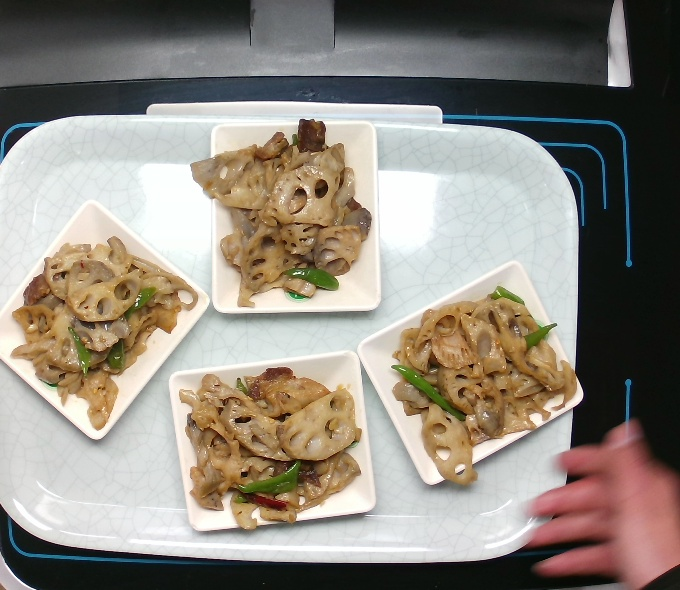wcq-OuPianChaoRou: (8, 227, 190, 431), (391, 289, 582, 481), (201, 122, 366, 308), (181, 359, 364, 525)
